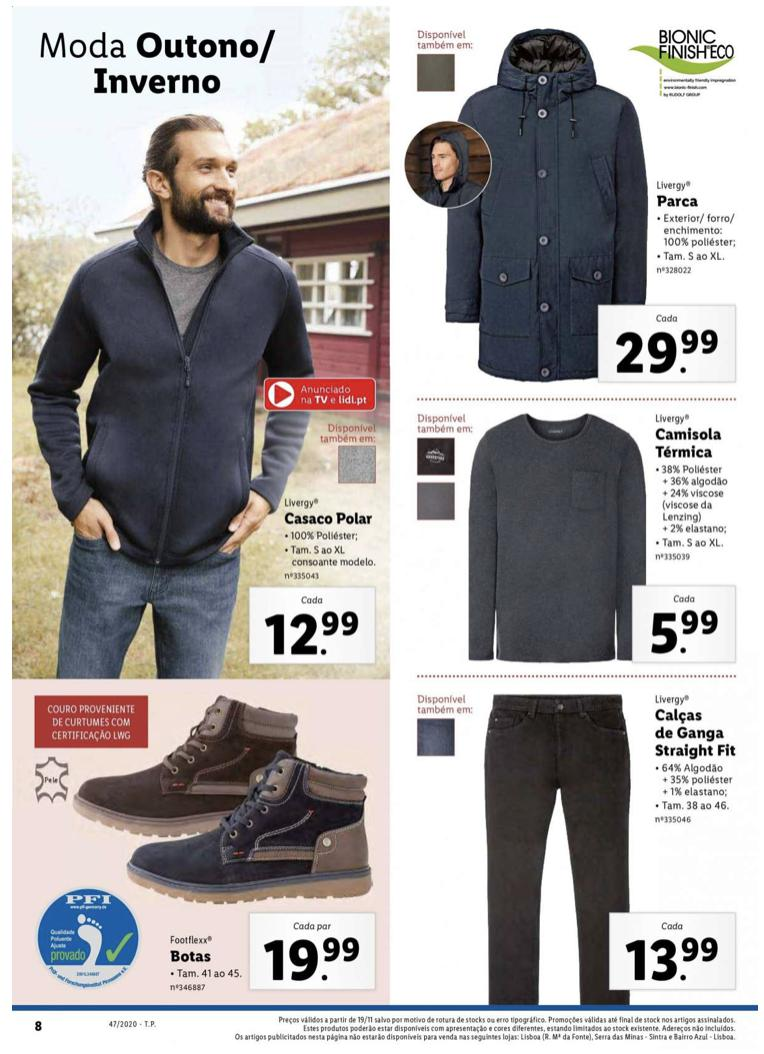name: (649, 703, 740, 759), (653, 424, 724, 461), (278, 507, 375, 528), (166, 946, 215, 967), (653, 192, 701, 213)
price: (258, 606, 365, 662), (611, 326, 723, 379), (620, 931, 726, 985), (261, 932, 362, 984), (646, 606, 723, 659)
product: (11, 101, 384, 672), (396, 13, 746, 393), (15, 687, 388, 1000), (402, 687, 740, 1014), (400, 405, 749, 666)
